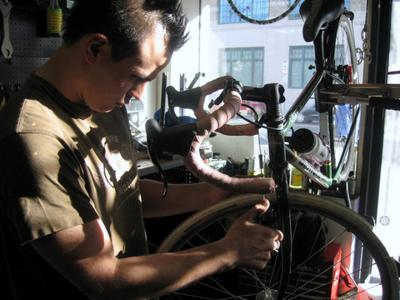person: (3, 2, 282, 300)
